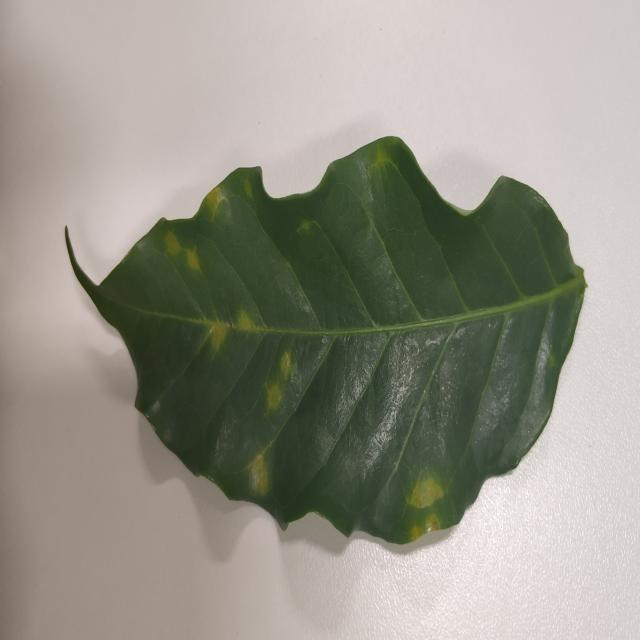Enfermedad-Roya: (63, 136, 588, 555)
